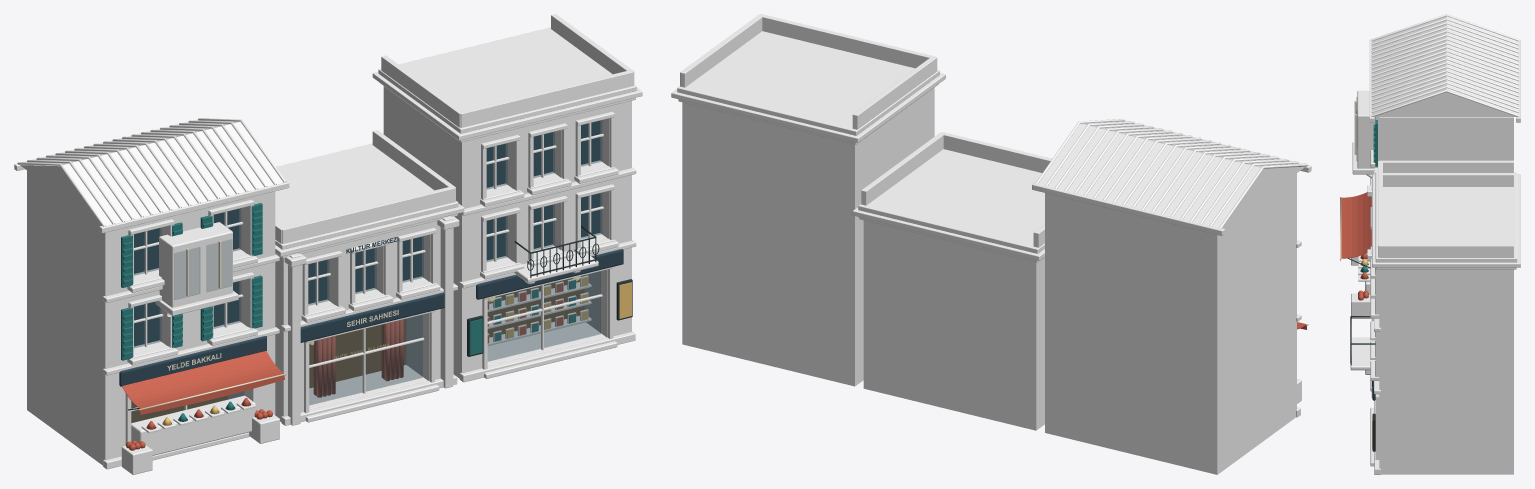
The model's file is DistrictBlock_5_0.glb.
3 renders of one model, left to right at view 1: azimuth 30°, elevation 25°; view 2: azimuth 150°, elevation 25°; view 3: azimuth 270°, elevation 25°, orthographic. The views are drawn at different scales.
Visible parts, largest first — view 1: RK_DistrictBlock_5_0_LC_Lime, RK_DistrictBlock_5_0_LC_Coral, RK_DistrictBlock_5_0_LC_Glass, RK_DistrictBlock_5_0_LC_Wood, RK_DistrictBlock_5_0_LC_Tile, RK_DistrictBlock_5_0_LC_Ink, RK_DistrictBlock_5_0_LC_Brick, RK_DistrictBlock_5_0_LC_Red, RK_DistrictBlock_5_0_LC_Teal, RK_DistrictBlock_5_0_LC_Interior, RK_DistrictBlock_5_0_LC_Iron, RK_DistrictBlock_5_0_LC_Gold (+1 smaller); view 2: RK_DistrictBlock_5_0_LC_Lime, RK_DistrictBlock_5_0_LC_Coral, RK_DistrictBlock_5_0_LC_Brick, RK_DistrictBlock_5_0_LC_Tile, RK_DistrictBlock_5_0_LC_Wood; view 3: RK_DistrictBlock_5_0_LC_Lime, RK_DistrictBlock_5_0_LC_Tile, RK_DistrictBlock_5_0_LC_Coral, RK_DistrictBlock_5_0_LC_Wood, RK_DistrictBlock_5_0_LC_Red, RK_DistrictBlock_5_0_LC_Brick, RK_DistrictBlock_5_0_LC_Iron, RK_DistrictBlock_5_0_LC_Canvas, RK_DistrictBlock_5_0_LC_Teal.
Part boxes in pixels (bbox=[...]): RK_DistrictBlock_5_0_LC_Lime: bbox=[103, 14, 642, 469]; RK_DistrictBlock_5_0_LC_Coral: bbox=[27, 170, 275, 465]; RK_DistrictBlock_5_0_LC_Glass: bbox=[131, 120, 601, 422]; RK_DistrictBlock_5_0_LC_Wood: bbox=[14, 119, 605, 474]; RK_DistrictBlock_5_0_LC_Tile: bbox=[17, 118, 285, 226]; RK_DistrictBlock_5_0_LC_Ink: bbox=[119, 121, 623, 386]; RK_DistrictBlock_5_0_LC_Brick: bbox=[275, 130, 455, 421]; RK_DistrictBlock_5_0_LC_Red: bbox=[122, 283, 563, 450]; RK_DistrictBlock_5_0_LC_Teal: bbox=[121, 203, 575, 421]; RK_DistrictBlock_5_0_LC_Interior: bbox=[131, 275, 584, 422]; RK_DistrictBlock_5_0_LC_Iron: bbox=[128, 225, 632, 410]; RK_DistrictBlock_5_0_LC_Gold: bbox=[162, 277, 631, 425]; RK_DistrictBlock_5_0_LC_Lime: bbox=[671, 14, 1301, 417]; RK_DistrictBlock_5_0_LC_Coral: bbox=[1045, 173, 1296, 474]; RK_DistrictBlock_5_0_LC_Brick: bbox=[861, 132, 1052, 430]; RK_DistrictBlock_5_0_LC_Tile: bbox=[1035, 119, 1308, 228]; RK_DistrictBlock_5_0_LC_Wood: bbox=[1032, 120, 1311, 403]; RK_DistrictBlock_5_0_LC_Lime: bbox=[1350, 117, 1520, 474]; RK_DistrictBlock_5_0_LC_Tile: bbox=[1371, 14, 1519, 116]; RK_DistrictBlock_5_0_LC_Coral: bbox=[1379, 117, 1513, 160]; RK_DistrictBlock_5_0_LC_Wood: bbox=[1351, 39, 1520, 318]; RK_DistrictBlock_5_0_LC_Red: bbox=[1340, 192, 1371, 300]; RK_DistrictBlock_5_0_LC_Brick: bbox=[1378, 160, 1513, 173]; RK_DistrictBlock_5_0_LC_Iron: bbox=[1347, 258, 1375, 451]; RK_DistrictBlock_5_0_LC_Canvas: bbox=[1340, 100, 1356, 259]; RK_DistrictBlock_5_0_LC_Teal: bbox=[1360, 119, 1377, 386].
Bounding box in the file's own units: 19.17 × 9.33 × 6.44.
